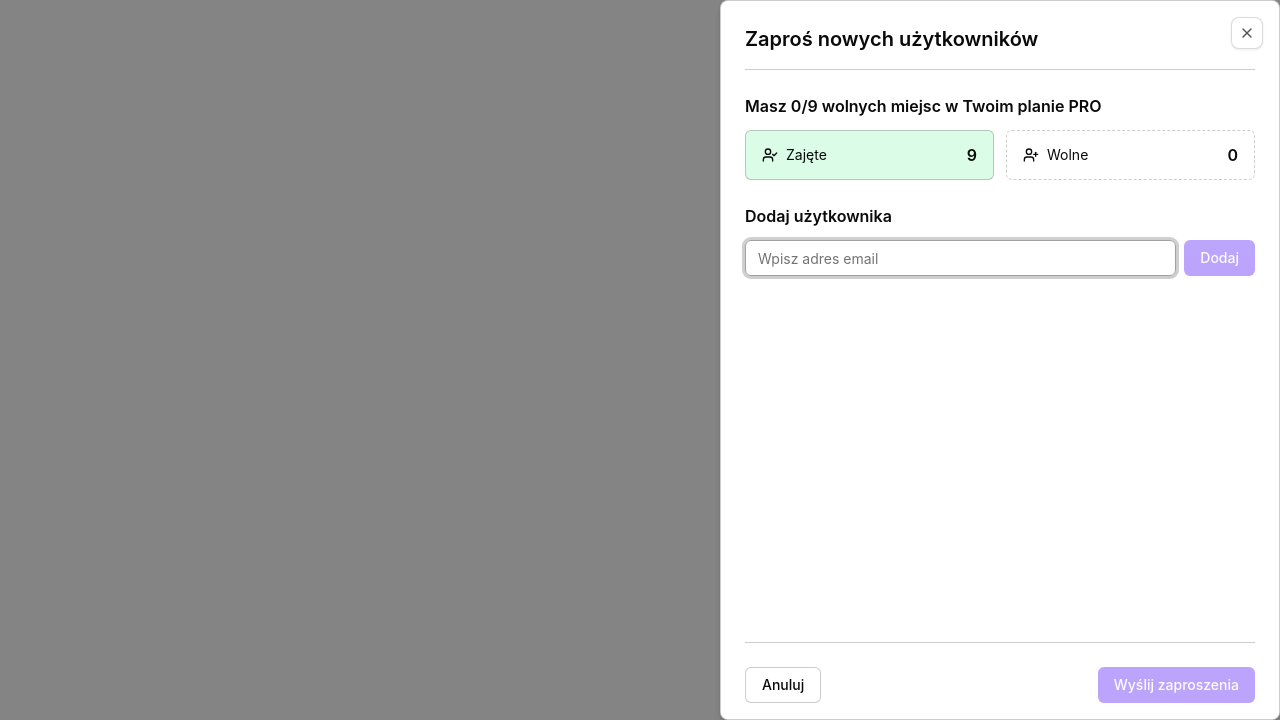
Test: InviteUsersDialog Payment Flow › Error Handling › should display error when update-subscription-quantity fails
Type "user@example.com" into the field with placeholder "Wpisz adres email". click: coordinates (961, 258)
box: [745, 240, 1176, 276]
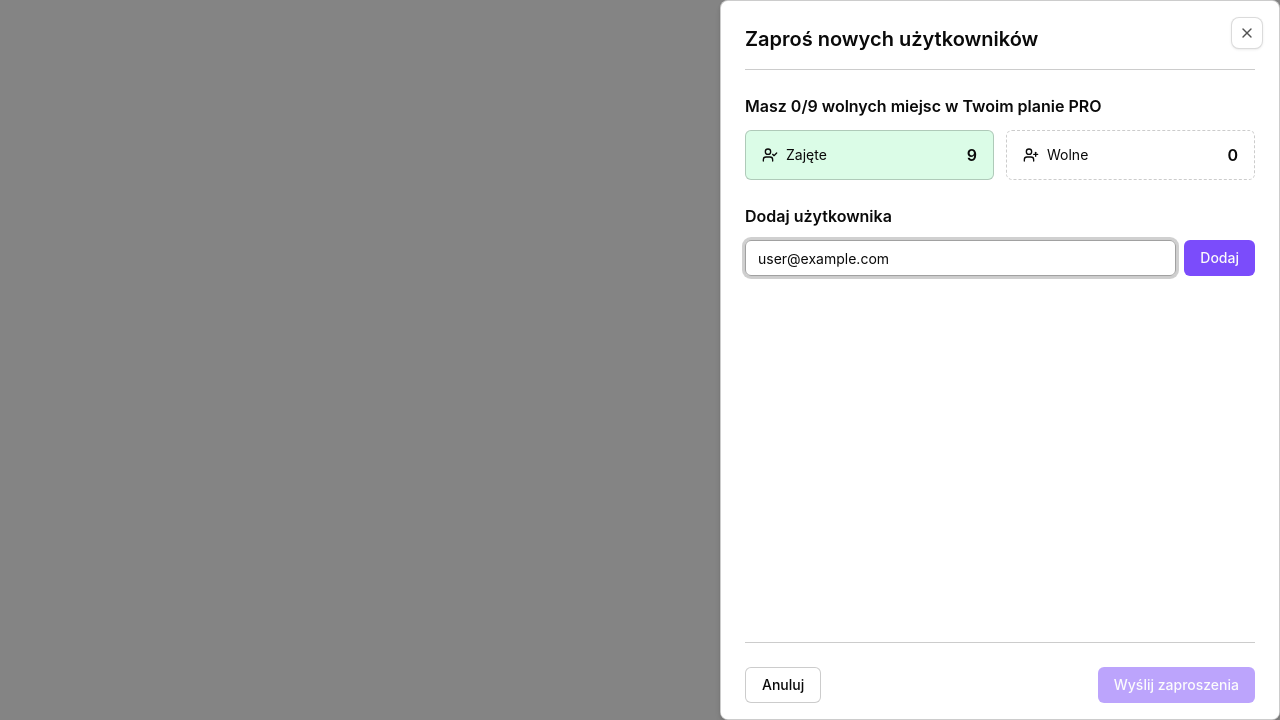
Click the button "Dodaj". click: coordinates (1220, 258)
box: [1184, 240, 1255, 276]
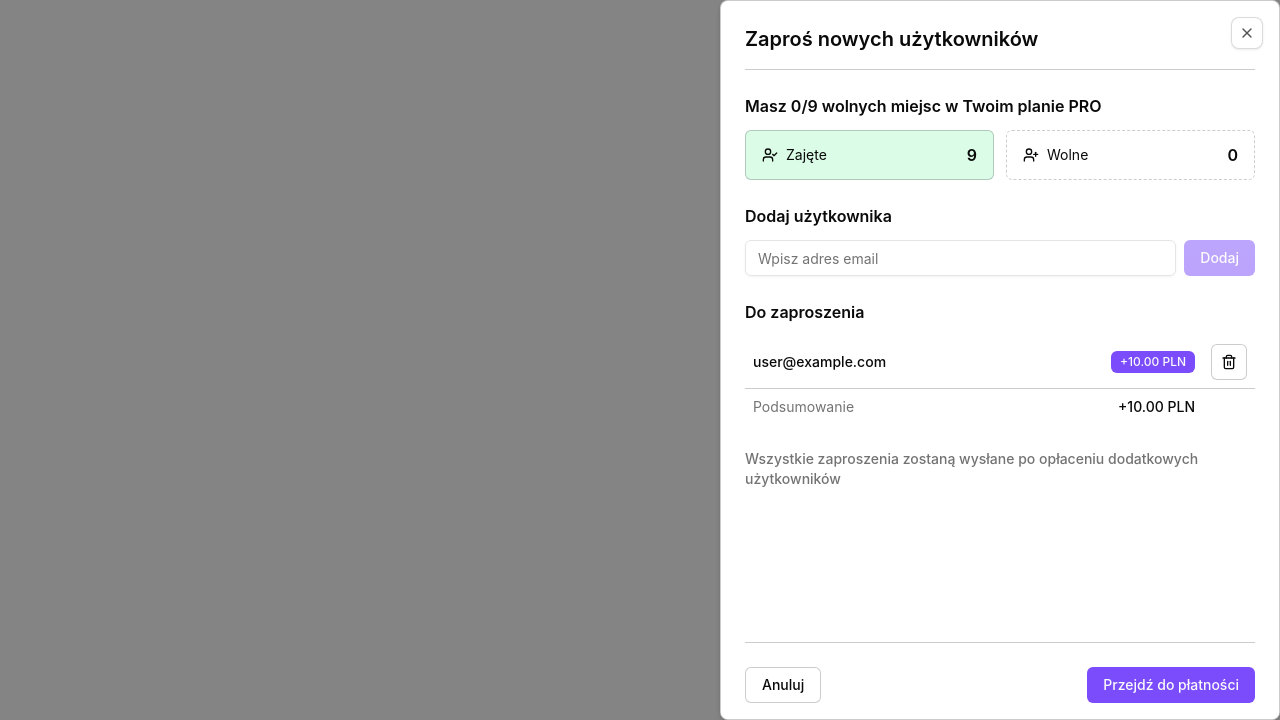
Click the button "Przejdź do płatności". click: coordinates (1171, 685)
box: [1087, 667, 1255, 703]
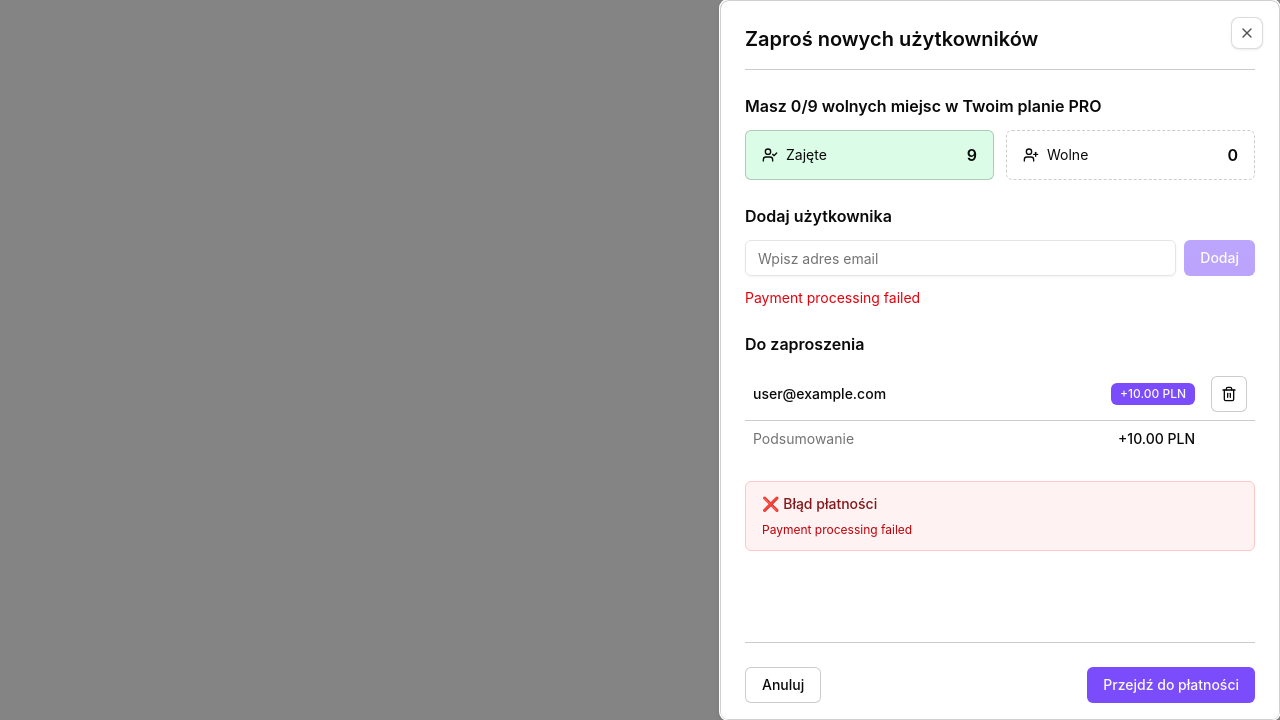
Result: the text "❌ Błąd płatności" is shown at [762, 495, 877, 512]
Result: the text "Payment processing failed" below "Dodaj użytkownika" is shown at [745, 289, 920, 306]
